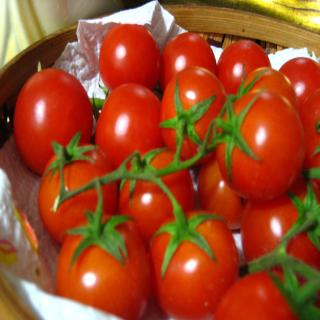tomato: (55, 207, 151, 320), (238, 180, 320, 306), (150, 208, 237, 320), (13, 60, 95, 176), (210, 106, 306, 202), (38, 129, 116, 243), (116, 146, 196, 250), (214, 252, 320, 319), (94, 82, 166, 168), (230, 62, 304, 120), (98, 22, 161, 89), (196, 155, 241, 234), (159, 31, 218, 90), (215, 39, 273, 98), (278, 56, 319, 112), (304, 123, 320, 204), (299, 84, 319, 128)
